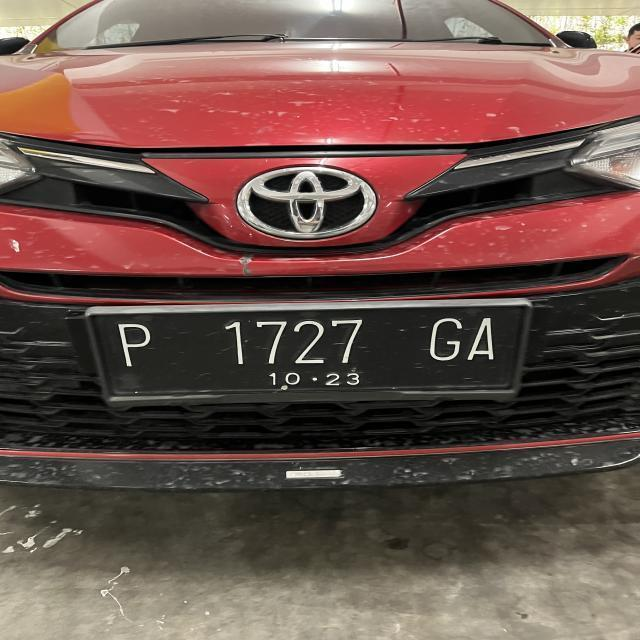1: (219, 315, 248, 369)
2: (294, 315, 328, 365)
7: (254, 315, 287, 366), (333, 314, 361, 364)
A: (466, 317, 501, 365)
G: (428, 313, 464, 366)
P: (112, 321, 152, 365)
